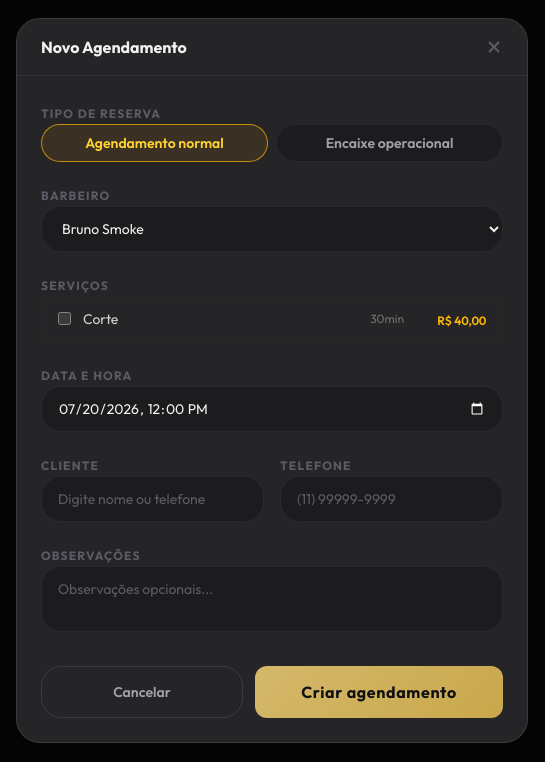
Test: busca de cliente no modal de agendamento › campo Cliente busca por telefone e selecionar preenche nome e telefone
This screenshot has width=545, height=762.
Step 1. Type "98888" into the search field titled "Cliente" → {"x": 152, "y": 498}, box [41,476,264,522]
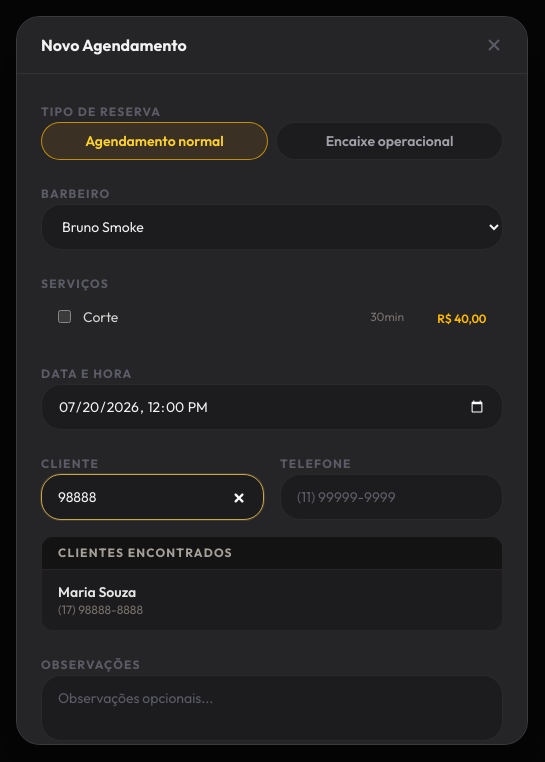
Step 2. Click the text "Maria Souza" → {"x": 97, "y": 592}, box [58,582,136,600]
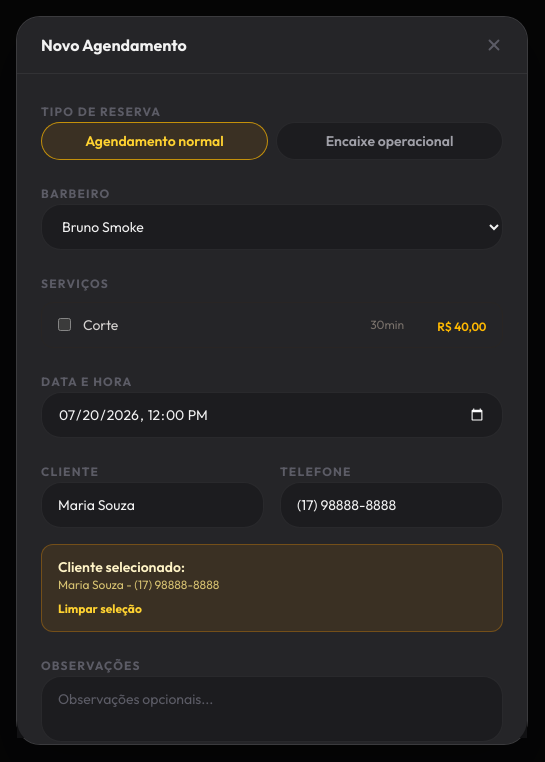
Result: the search field titled "Cliente" holds "Maria Souza" at [41,482,264,528]
Result: the field titled "Telefone do cliente" holds "(17) 98888-8888" at [280,482,503,528]
Result: the text "Cliente selecionado:" is shown at [58,558,185,576]
